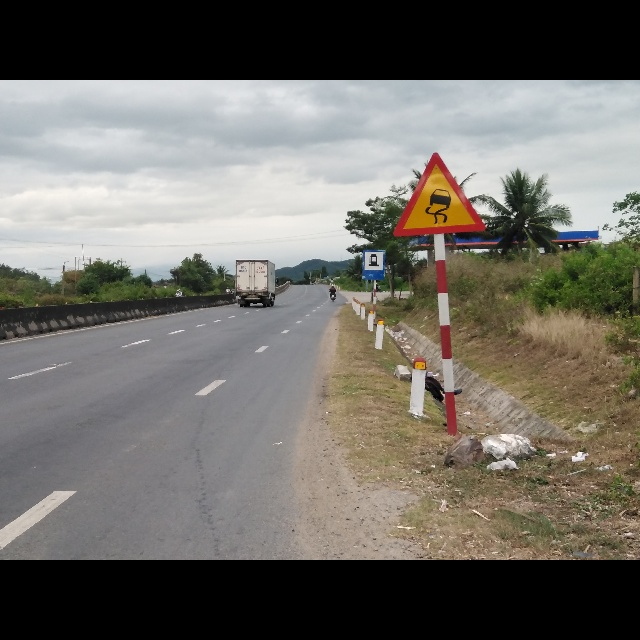Đường trơn trượt: (392, 151, 491, 240)
